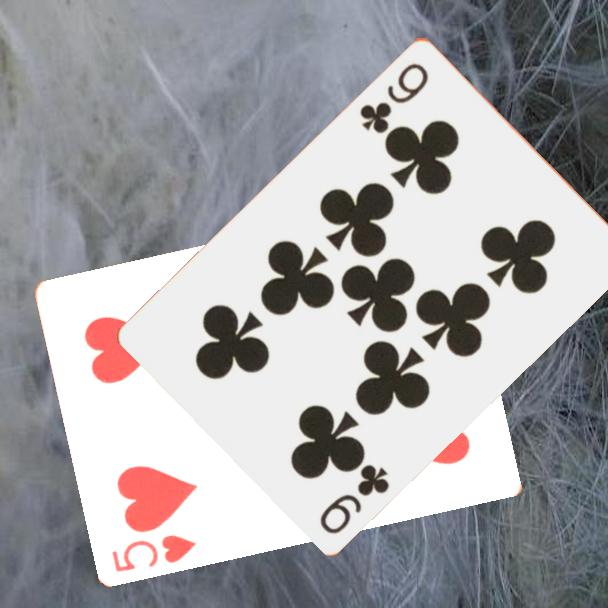c09: (315, 460, 393, 537), (356, 59, 432, 136)
h05: (109, 530, 199, 575)
